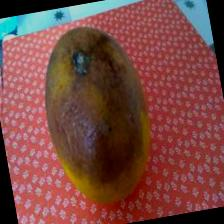Orange Rotten: (23, 15, 170, 223)
